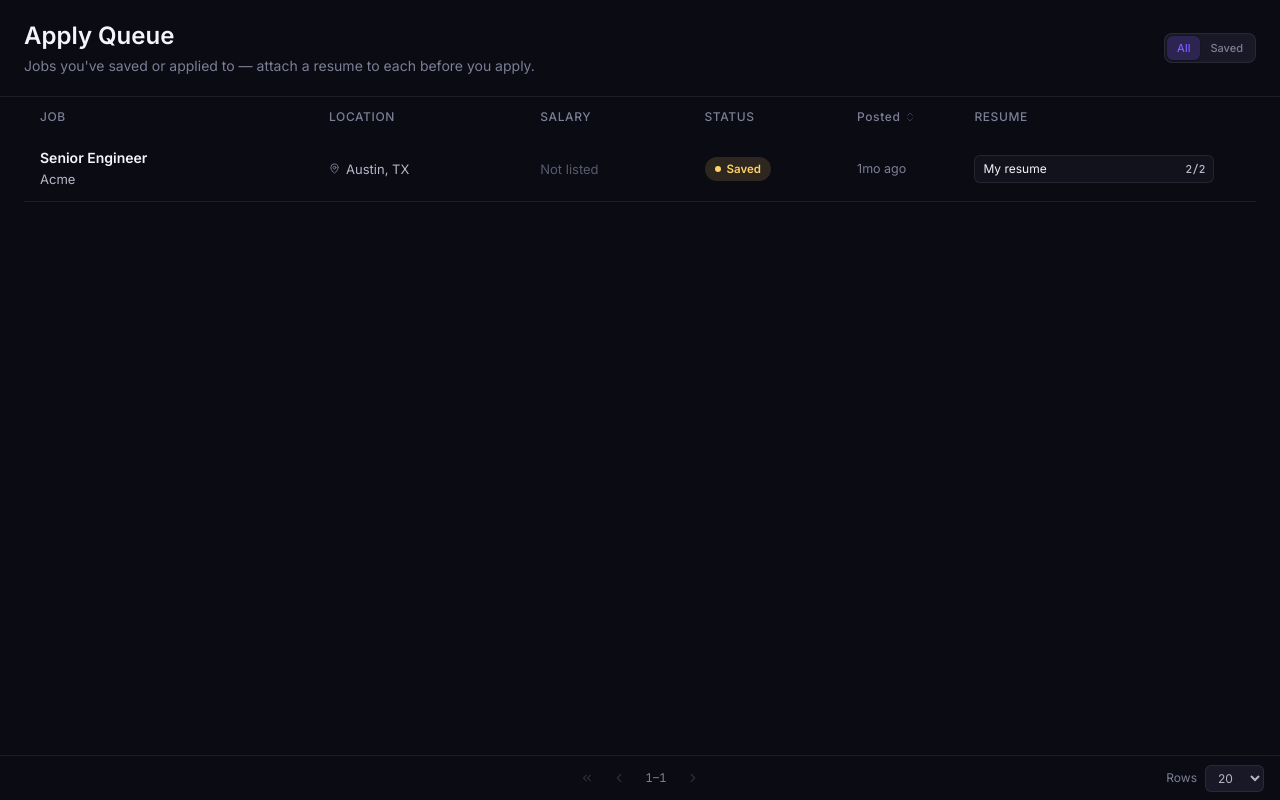
ApplyQueuePage › detail panel › opens the JobDetailPanel with the full job when a row is clicked
Expected: the link "Senior Engineer" is shown, left=40, top=149, right=147, bottom=166
Click the button with aria-label "Senior Engineer at Acme" at [640, 169], box left=24, top=137, right=1256, bottom=202
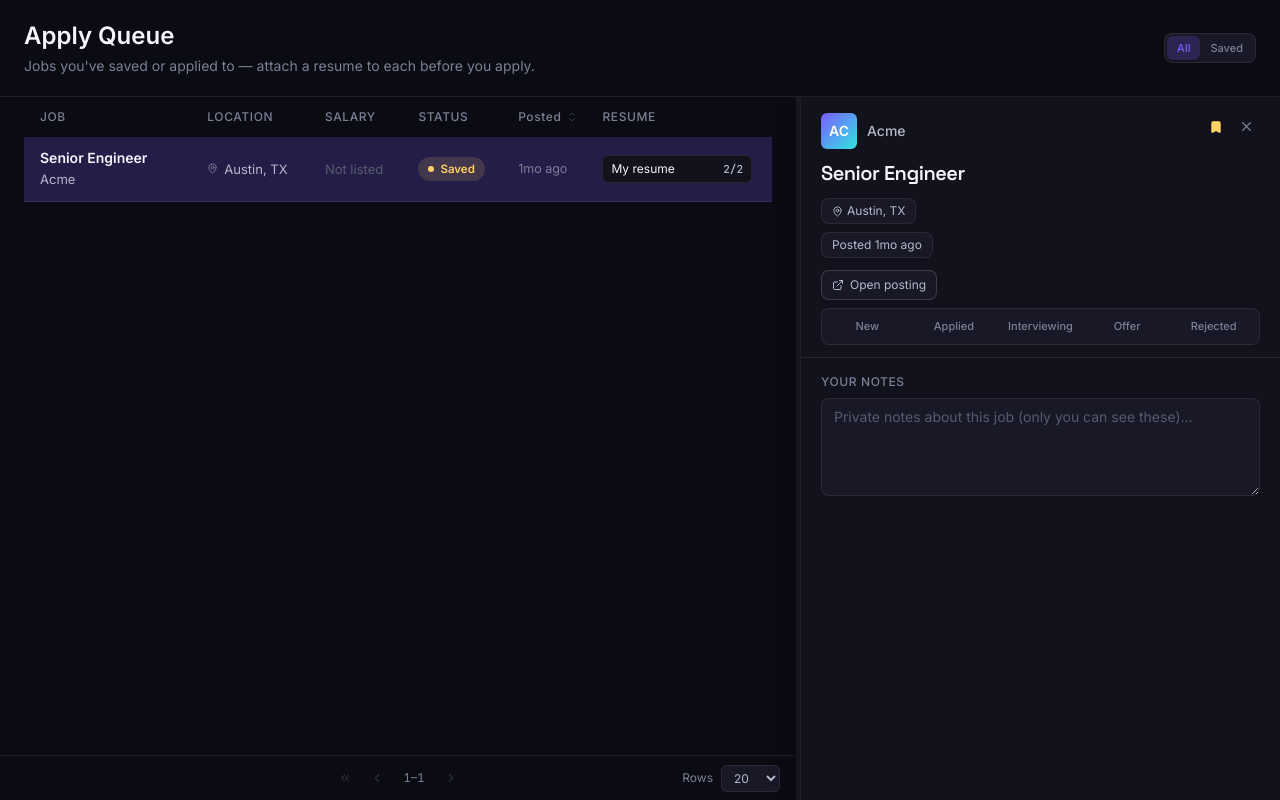
Now the element named "Job details" is shown, box left=801, top=97, right=1279, bottom=799
Now the link "Open posting" is shown, box left=821, top=270, right=937, bottom=300
